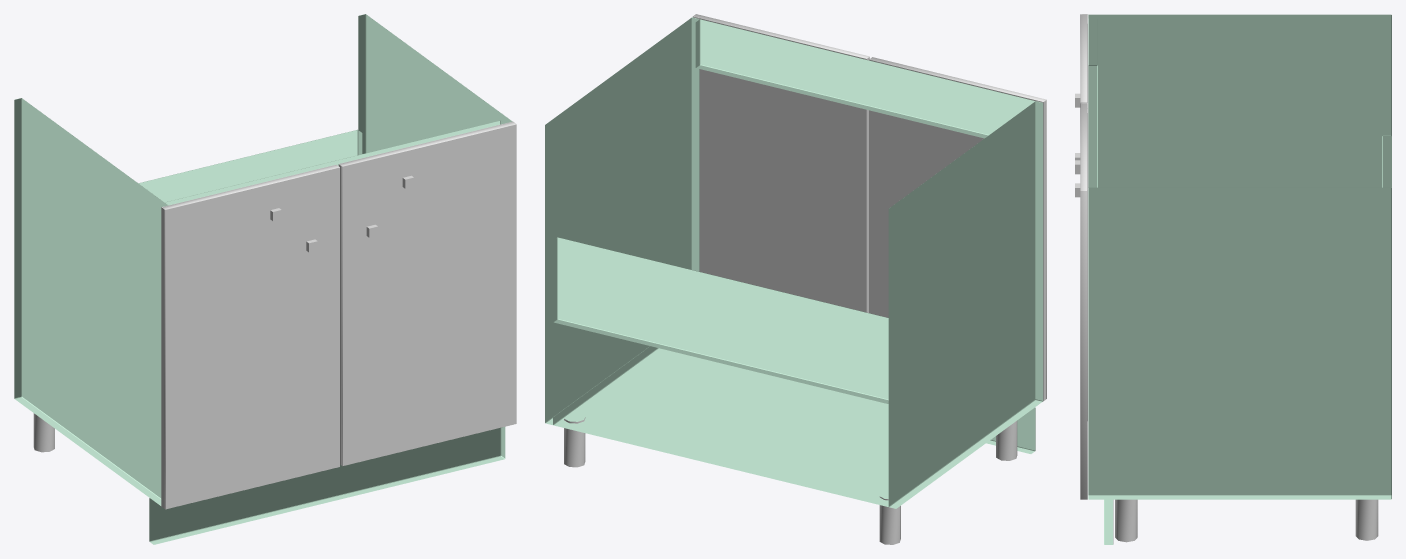
3 renders of one model, left to right at view 1: azimuth 30°, elevation 25°; view 2: azimuth 150°, elevation 25°; view 3: azimuth 270°, elevation 25°, orthographic. The views are drawn at different scales.
Visible parts, largest first — view 1: M_CL_7, M_CL_1_F.009, M_CL_1_F.010, M_CL_1_F_C.009, Legs.006, M_CL_1_F_C.010; view 2: M_CL_7, M_CL_1_F_B.010, M_CL_1_F_A.010, M_CL_1_F_A.009, Legs.006, M_CL_1_F_C.010, M_CL_1_F_C.009, M_CL_1_F.009, M_CL_1_F_B.009, M_CL_1_F.010; view 3: M_CL_7, M_CL_1_F.010, Legs.006, M_CL_1_F.009.
Boxes of the visible parts, x1,y1,x2,y2 form: M_CL_7: (14, 14, 512, 544); M_CL_1_F.009: (162, 165, 339, 509); M_CL_1_F.010: (339, 121, 516, 466); M_CL_1_F_C.009: (161, 207, 164, 508); Legs.006: (33, 413, 54, 452); M_CL_1_F_C.010: (338, 164, 341, 465); M_CL_7: (545, 17, 1043, 508); M_CL_1_F_B.010: (780, 38, 868, 312); M_CL_1_F_A.010: (692, 16, 868, 291); M_CL_1_F_A.009: (869, 59, 1045, 317); Legs.006: (564, 417, 1017, 544); M_CL_1_F_C.010: (694, 17, 869, 312); M_CL_1_F_C.009: (869, 101, 1046, 400); M_CL_1_F.009: (869, 57, 1046, 398); M_CL_1_F_B.009: (956, 81, 1045, 401); M_CL_1_F.010: (693, 14, 869, 58); M_CL_7: (1088, 14, 1391, 544); M_CL_1_F.010: (1080, 103, 1087, 499); Legs.006: (1115, 499, 1378, 542); M_CL_1_F.009: (1080, 14, 1087, 103).
Size of the model in its own units: 8 by 7.51 by 6.05.
